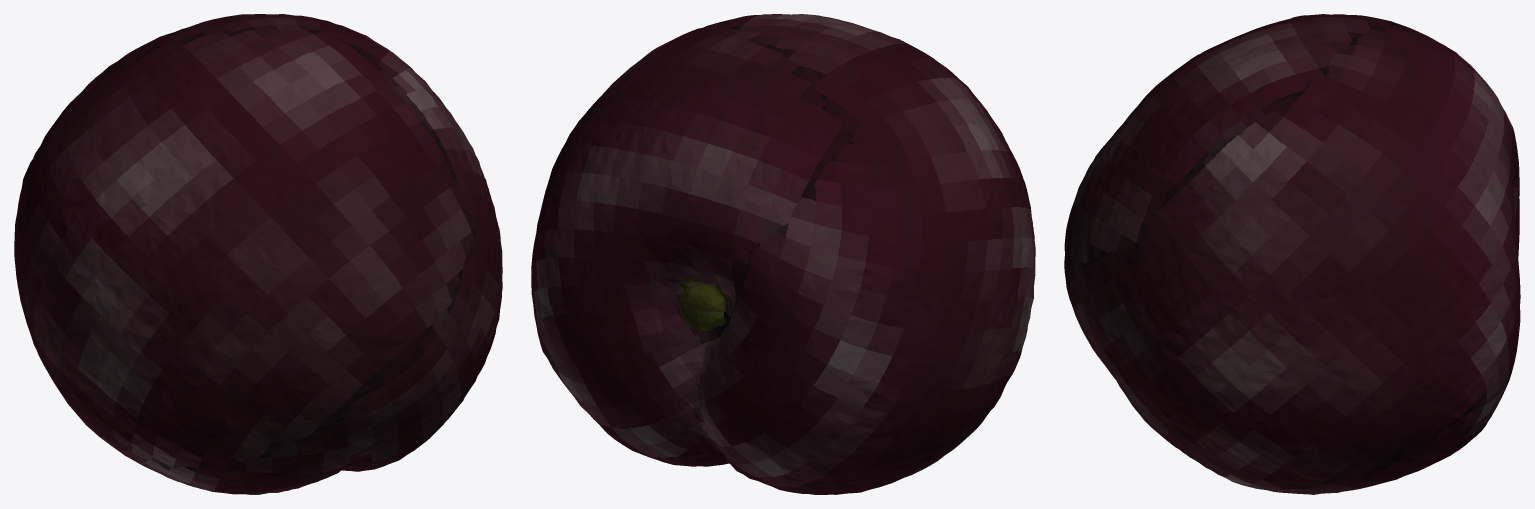
The model's file is 018_plum.glb.
The picture shows the model from 3 angles, left to right: view 1: azimuth 30°, elevation 25°; view 2: azimuth 150°, elevation 25°; view 3: azimuth 270°, elevation 25°; orthographic projection. The views are drawn at different scales.
Parts seen in each view (by area): view 1: textured.obj; view 2: textured.obj; view 3: textured.obj.
Part boxes in pixels (left/top/right/bottom): textured.obj: left=14, top=14, right=502, bottom=494; textured.obj: left=531, top=14, right=1035, bottom=494; textured.obj: left=1064, top=14, right=1520, bottom=494.
Size of the model in its own units: 0.0557 by 0.053 by 0.053.
Materials: 1 (1 with a texture image).
